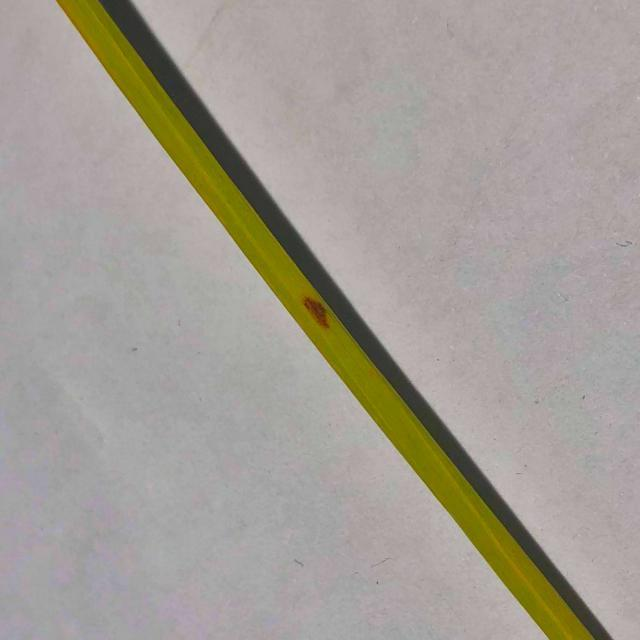Blast: (301, 292, 334, 332)
